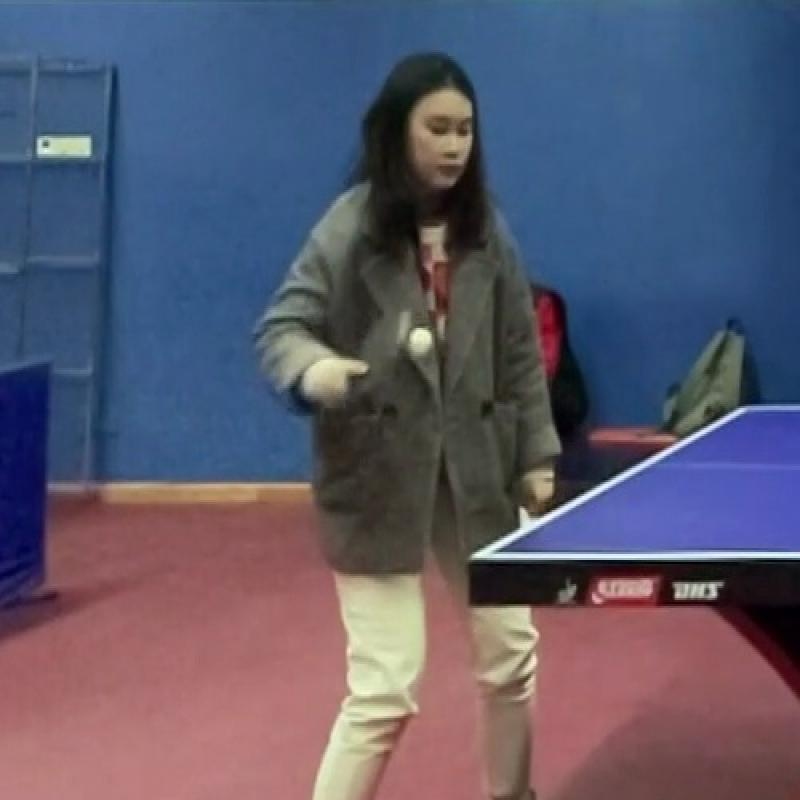bats: (347, 304, 420, 416)
